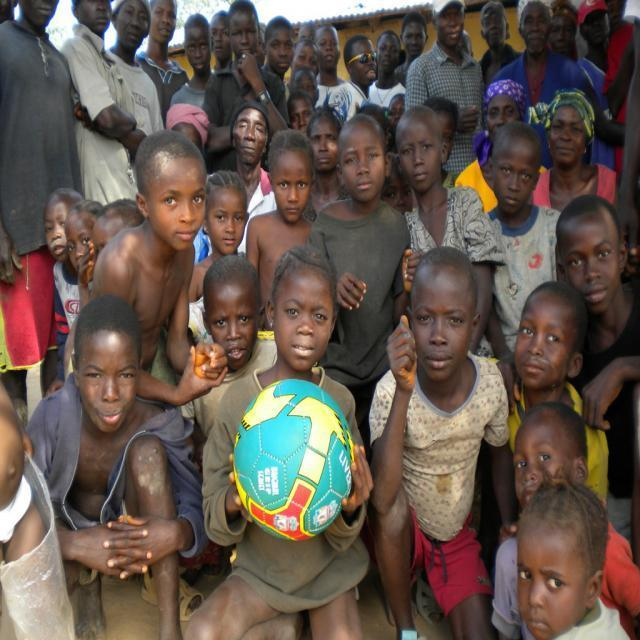football: (235, 370, 369, 537)
